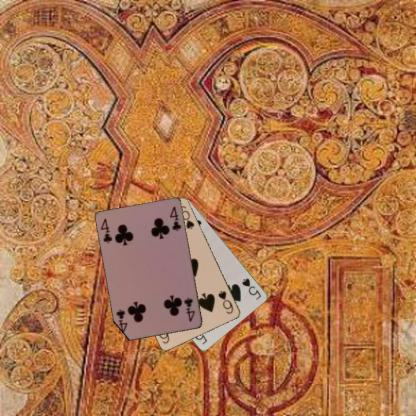4c: (98, 216, 113, 244), (182, 295, 196, 323)
5s: (240, 276, 263, 301)
6s: (216, 288, 234, 315)
